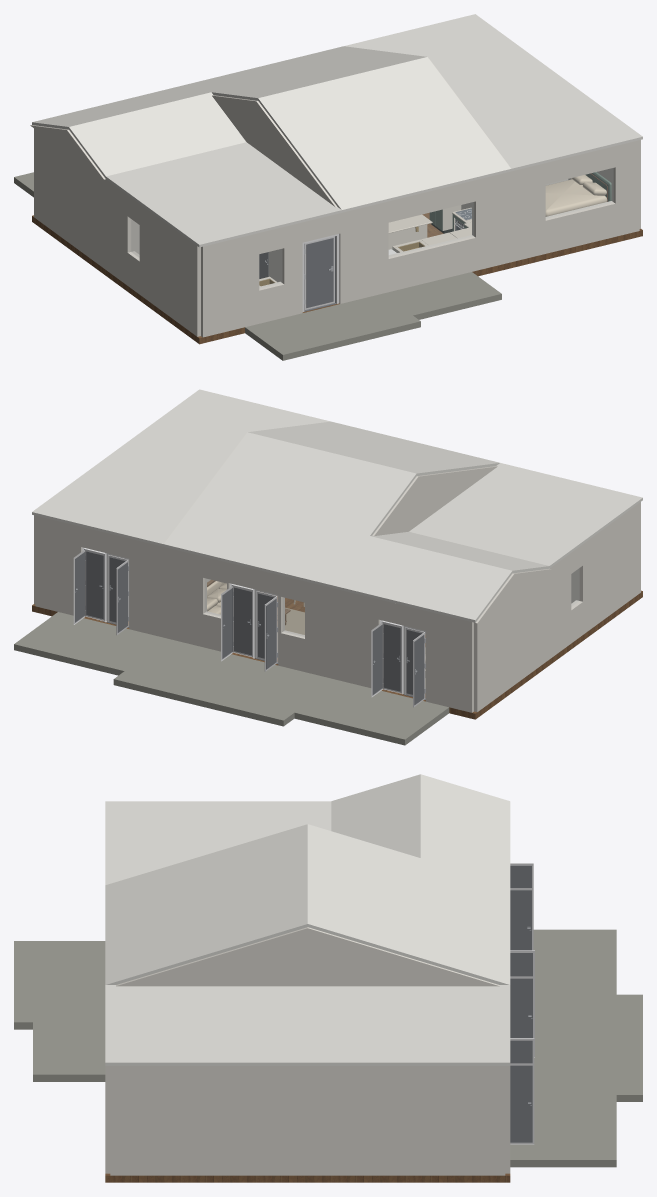
The picture shows the model from 3 angles, top to bottom: view 1: azimuth 30°, elevation 25°; view 2: azimuth 150°, elevation 25°; view 3: azimuth 270°, elevation 25°; orthographic projection. The views are drawn at different scales.
Parts seen in each view (by area): view 1: living-kitchen/vault-front, east-wing-flat-ceiling, services-flat-ceiling, ext-left/pier-0, primary/vault-front, ground/slab/1, ext-front/pier-3, ext-left/end, living-kitchen/vault-rear, ext-front/pier-0, ext-front/pier-2, living-kitchen/gable-left (+22 smaller); view 2: living-kitchen/vault-rear, ground/slab/3, east-wing-flat-ceiling, services-flat-ceiling, primary/vault-rear, ext-left/pier-0, ext-rear/pier-4, ext-rear/pier-1, living-kitchen/vault-front, ext-left/end, ext-rear/pier-0, ext-rear/end (+27 smaller); view 3: ext-right/end, east-wing-flat-ceiling, living-kitchen/vault-rear, living-kitchen/vault-front, ground/slab/3, living-kitchen/gable-right, services-flat-ceiling, ground/slab/1, primary/vault-rear, primary/vault-front, ground/slab/0, ground/slab/4 (+9 smaller).
Part boxes in pixels (x1,y1,x2,y2): living-kitchen/vault-front: [258, 57, 511, 212]; east-wing-flat-ceiling: [344, 14, 642, 171]; services-flat-ceiling: [106, 142, 341, 247]; ext-left/pier-0: [34, 128, 134, 285]; primary/vault-front: [69, 92, 246, 178]; ground/slab/1: [245, 272, 501, 354]; ext-front/pier-3: [472, 163, 545, 270]; ext-left/end: [139, 204, 200, 336]; living-kitchen/vault-rear: [174, 46, 426, 100]; ext-front/pier-0: [201, 233, 259, 337]; ext-front/pier-2: [339, 201, 388, 303]; living-kitchen/gable-left: [212, 95, 337, 207]; living-kitchen/vault-rear: [163, 432, 416, 587]; ground/slab/3: [14, 612, 449, 745]; east-wing-flat-ceiling: [32, 389, 330, 546]; services-flat-ceiling: [409, 463, 642, 567]; primary/vault-rear: [333, 536, 512, 622]; ext-left/pier-0: [474, 553, 571, 712]; ext-rear/pier-4: [129, 538, 206, 646]; ext-rear/pier-1: [305, 581, 379, 687]; living-kitchen/vault-front: [248, 421, 499, 475]; ext-left/end: [576, 502, 640, 634]; ext-rear/pier-0: [426, 611, 473, 712]; ext-rear/end: [35, 515, 82, 615]; ext-right/end: [110, 1066, 505, 1175]; east-wing-flat-ceiling: [105, 985, 510, 1065]; living-kitchen/vault-rear: [307, 824, 510, 984]; living-kitchen/vault-front: [105, 824, 307, 984]; ground/slab/3: [510, 929, 616, 1167]; living-kitchen/gable-right: [116, 927, 499, 986]; services-flat-ceiling: [105, 801, 331, 884]; ground/slab/1: [33, 941, 105, 1081]; primary/vault-rear: [420, 774, 510, 884]; primary/vault-front: [331, 774, 420, 857]; ground/slab/0: [105, 1173, 510, 1182]; ground/slab/4: [616, 994, 642, 1101].
Size of the model in its own units: 14.08 by 4.53 by 14.26.
Materials: 193 (2 with a texture image).
